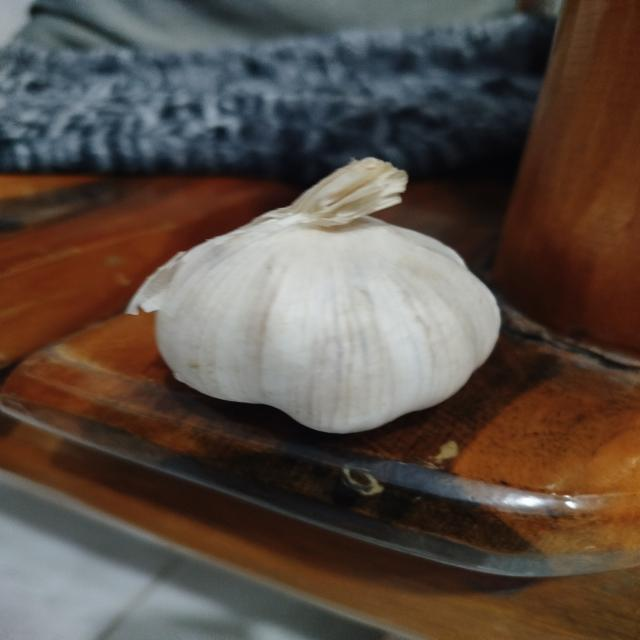garlic: (123, 156, 502, 434)
